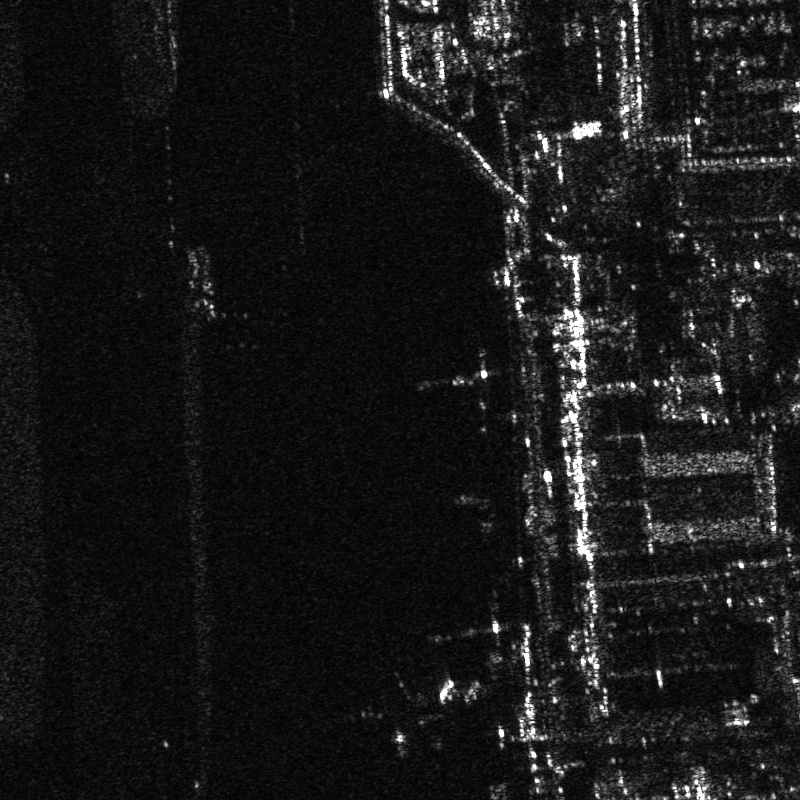A320/321: (429, 591, 518, 658)
other: (411, 334, 513, 431), (350, 673, 449, 754)
